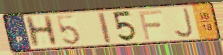5: (55, 13, 82, 46), (112, 9, 138, 43)
F: (138, 9, 164, 41)
H: (23, 14, 60, 49)
I: (96, 11, 114, 45)
J: (172, 6, 195, 39)
